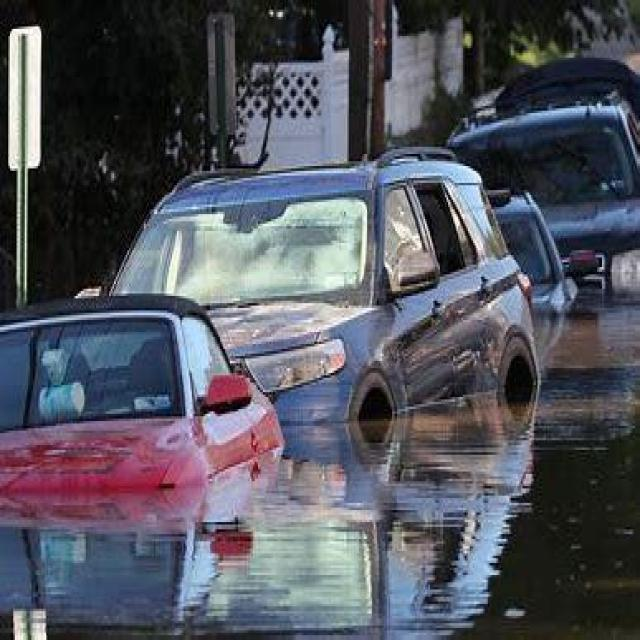water: (0, 300, 638, 637)
